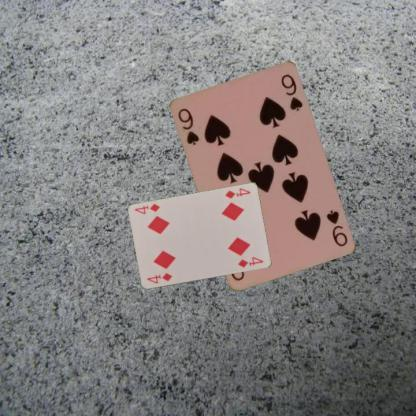4d: (222, 185, 252, 200), (144, 270, 173, 285)
9s: (323, 207, 350, 248), (176, 106, 202, 146)
